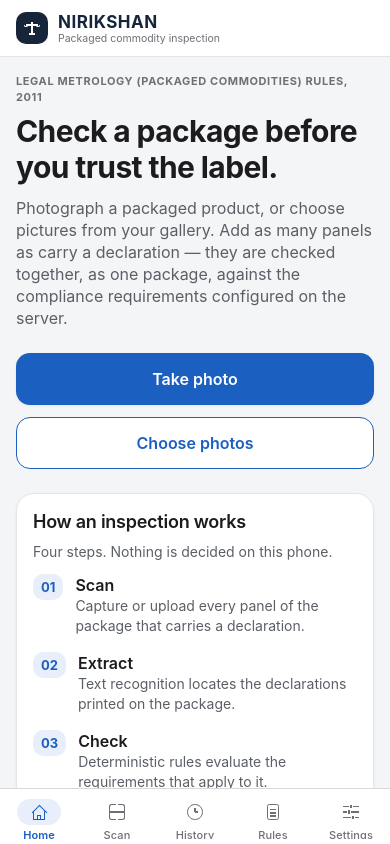
it: the tab bar › opens History when its tab is pressed
Click the tab with test id "tab-history".
click(195, 835)  # box x1=176 y1=804 x2=214 y2=842
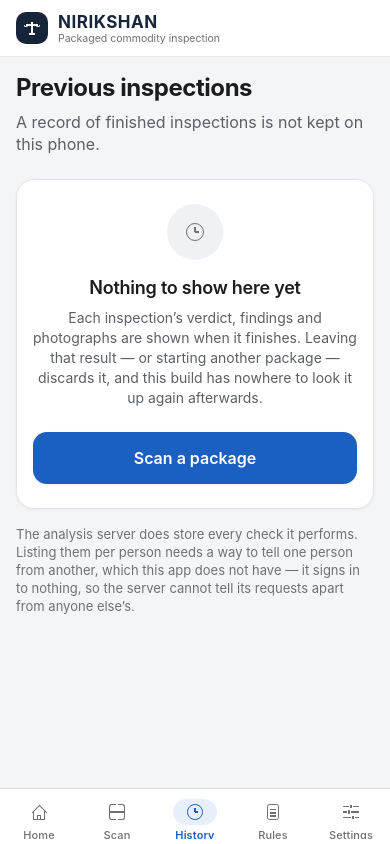
Expected: the element with test id "inspections-screen" is shown
